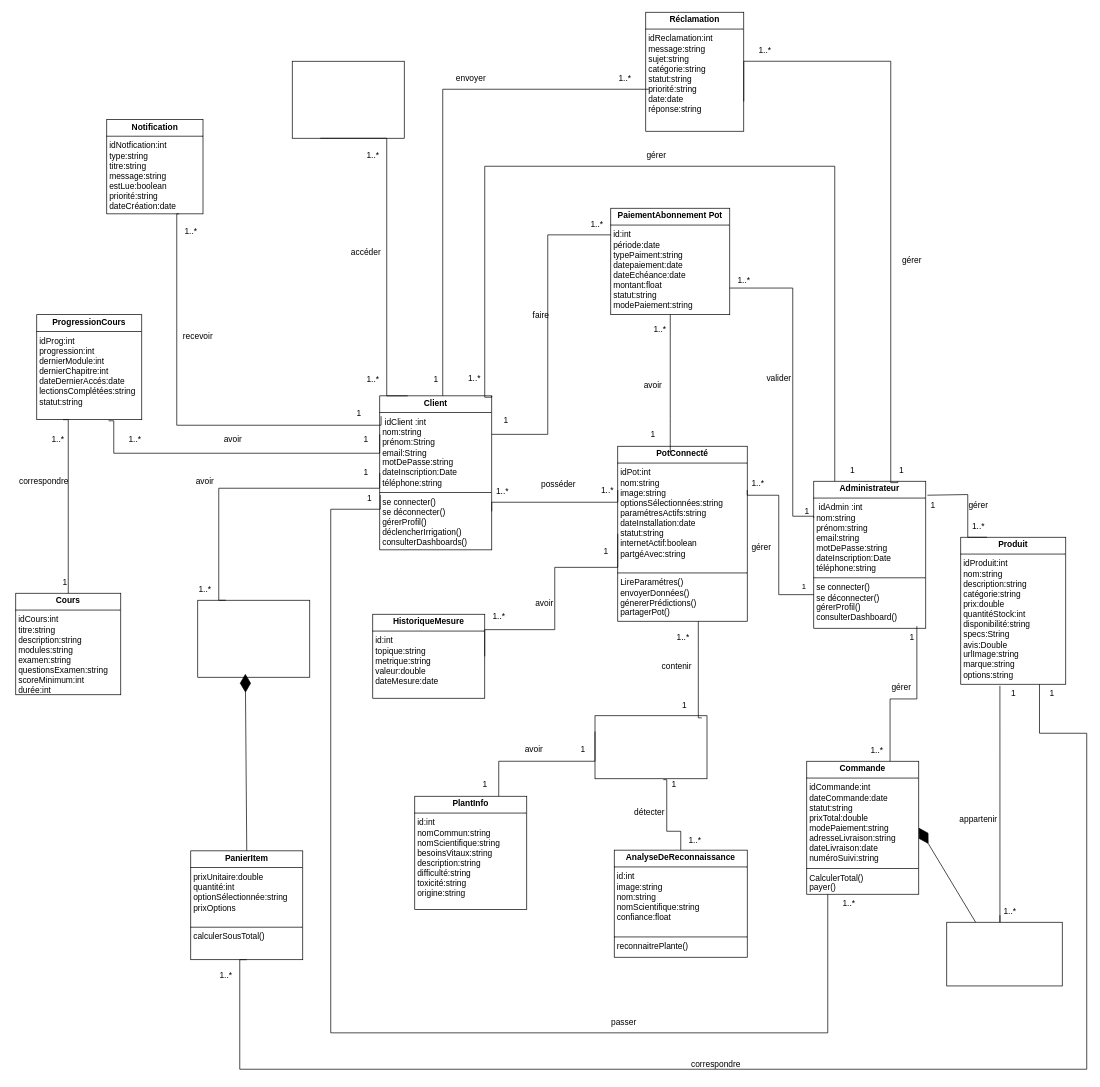
Some shapes in this 1100 by 1087 pixel diagram are drawn without their labels. The shapes that lost their labels are listed below. From the top down, each one's centre as x and y in pixels, then its label:
[348,99]: Jeu idJeu:int nomJeu:string type:string description:string régles:string
[253,638]: Panier idPanier:int montantTotal:double dateModification:date calculerTotal()
[650,747]: Plante idPlante:int nom:string espéces:string notes:string + method(): Type
[1004,954]: LigneCommande idLigne:int quantité:int sousTotal:float optionSélectionnés:string
